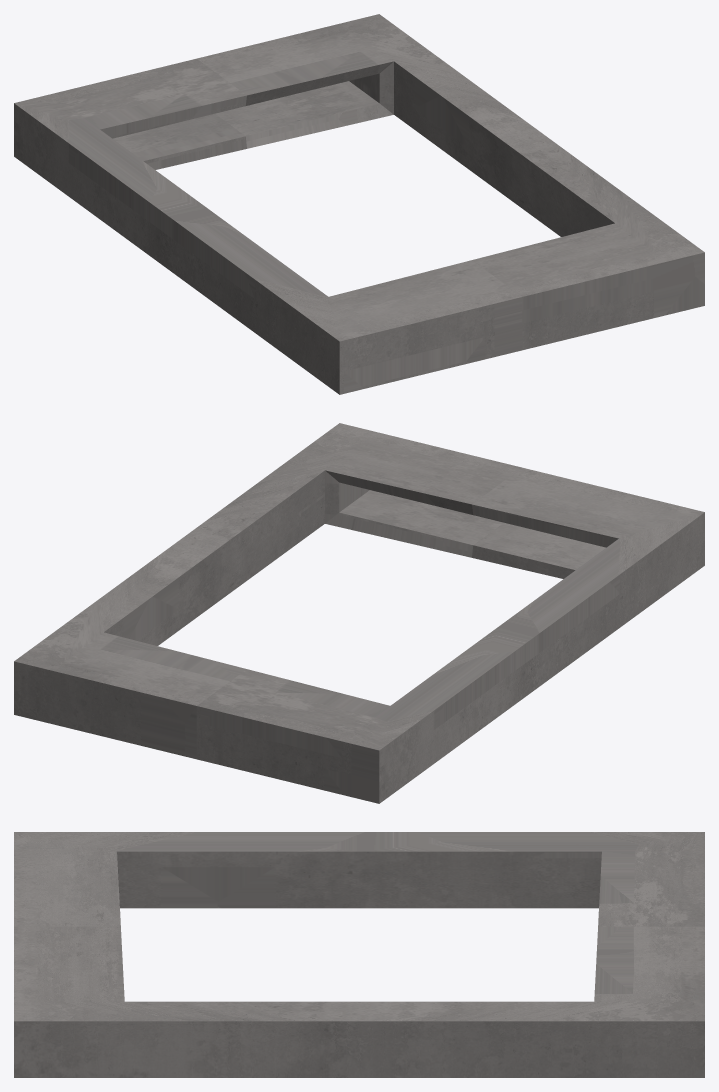
Rendered from DropHatch.fbx.
3 views of the same model, one above another, from view 1: azimuth 30°, elevation 25°; view 2: azimuth 150°, elevation 25°; view 3: azimuth 270°, elevation 25° (orthographic). The views are drawn at different scales.
Parts seen in each view (by area): view 1: MS_DropHatchFrame; view 2: MS_DropHatchFrame; view 3: MS_DropHatchFrame.
Boxes of the visible parts, x1,y1,x2,y2 form: MS_DropHatchFrame: [14, 14, 704, 394]; MS_DropHatchFrame: [14, 423, 704, 803]; MS_DropHatchFrame: [14, 832, 704, 1077].
Bounding box in the file's own units: 130 × 18.1 × 200.
1 material, 1 textured.
